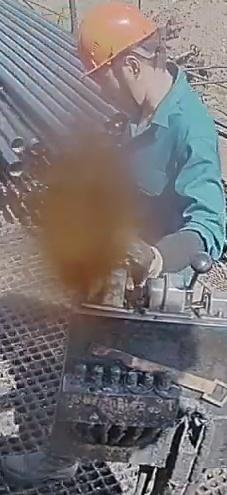gloves: (100, 224, 159, 286)
helmet: (76, 1, 157, 77)
vest: (96, 96, 224, 249)
